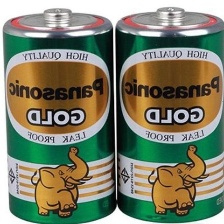battery: (1, 5, 119, 224), (112, 3, 224, 224)
